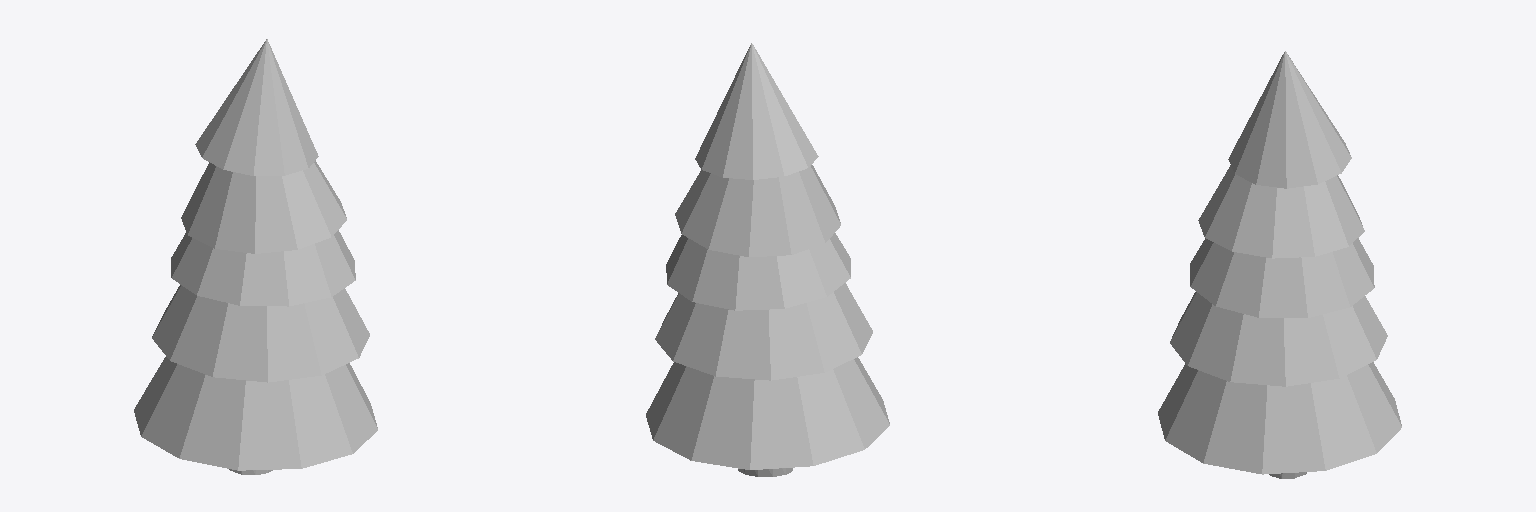
The model's file is tree.obj.
3 renders of one model, left to right at view 1: azimuth 30°, elevation 25°; view 2: azimuth 150°, elevation 25°; view 3: azimuth 270°, elevation 25°, orthographic.
Visible parts, largest first — view 1: group[number redacted], group[number redacted], group[number redacted], group[number redacted], group[number redacted]; view 2: group[number redacted], group[number redacted], group[number redacted], group[number redacted], group[number redacted]; view 3: group[number redacted], group[number redacted], group[number redacted], group[number redacted], group[number redacted].
Part boxes in pixels (x1,y1,x2,y2): group[number redacted]: (134, 357, 377, 470); group[number redacted]: (152, 285, 369, 382); group[number redacted]: (181, 160, 346, 253); group[number redacted]: (171, 230, 355, 306); group[number redacted]: (195, 39, 318, 175); group[number redacted]: (646, 357, 889, 469); group[number redacted]: (655, 283, 872, 380); group[number redacted]: (675, 165, 840, 256); group[number redacted]: (666, 233, 850, 310); group[number redacted]: (695, 43, 818, 179); group[number redacted]: (1158, 362, 1401, 474); group[number redacted]: (1170, 292, 1387, 386); group[number redacted]: (1190, 238, 1374, 317); group[number redacted]: (1198, 165, 1364, 258); group[number redacted]: (1228, 51, 1351, 188).
Bounding box in the file's own units: 0.3911 × 0.7489 × 0.3912.